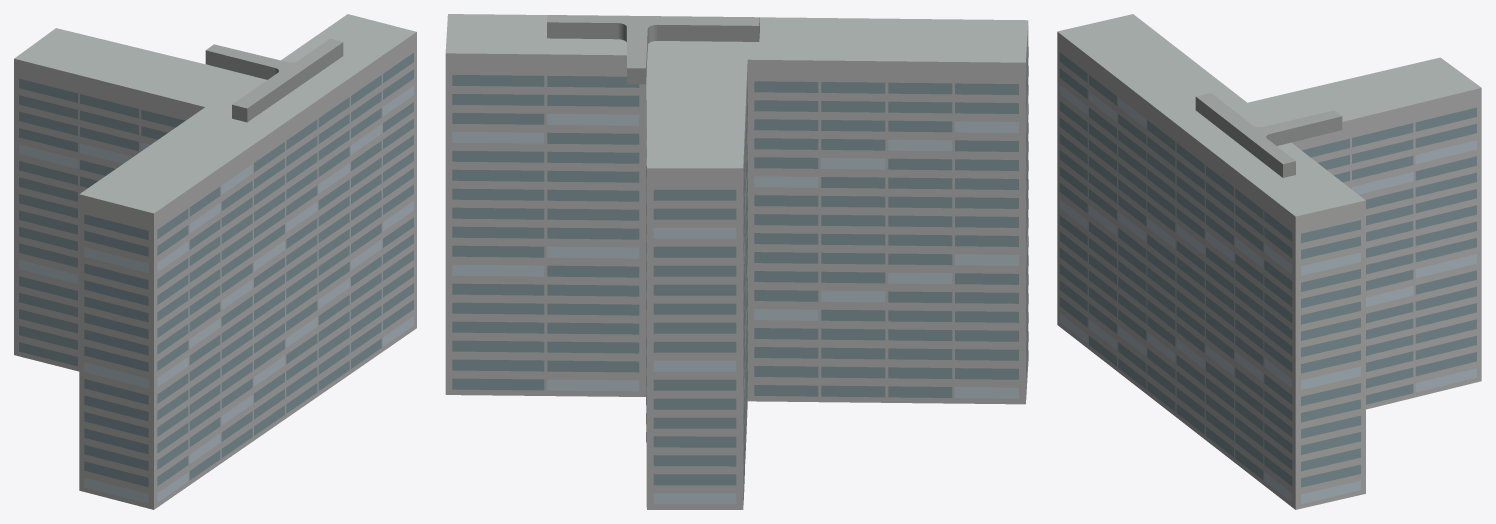
Rendered from apt-a13812002.glb.
3 renders of one model, left to right at view 1: azimuth 30°, elevation 25°; view 2: azimuth 150°, elevation 25°; view 3: azimuth 270°, elevation 25°, orthographic. The views are drawn at different scales.
Parts seen in each view (by area): view 1: apt-a13812002; view 2: apt-a13812002; view 3: apt-a13812002.
Boxes of the visible parts, <box> form: apt-a13812002: <box>14,14,416,509</box>; apt-a13812002: <box>445,14,1028,509</box>; apt-a13812002: <box>1057,14,1481,509</box>.
Bounding box in the file's own units: 67.88 × 48 × 60.12.
